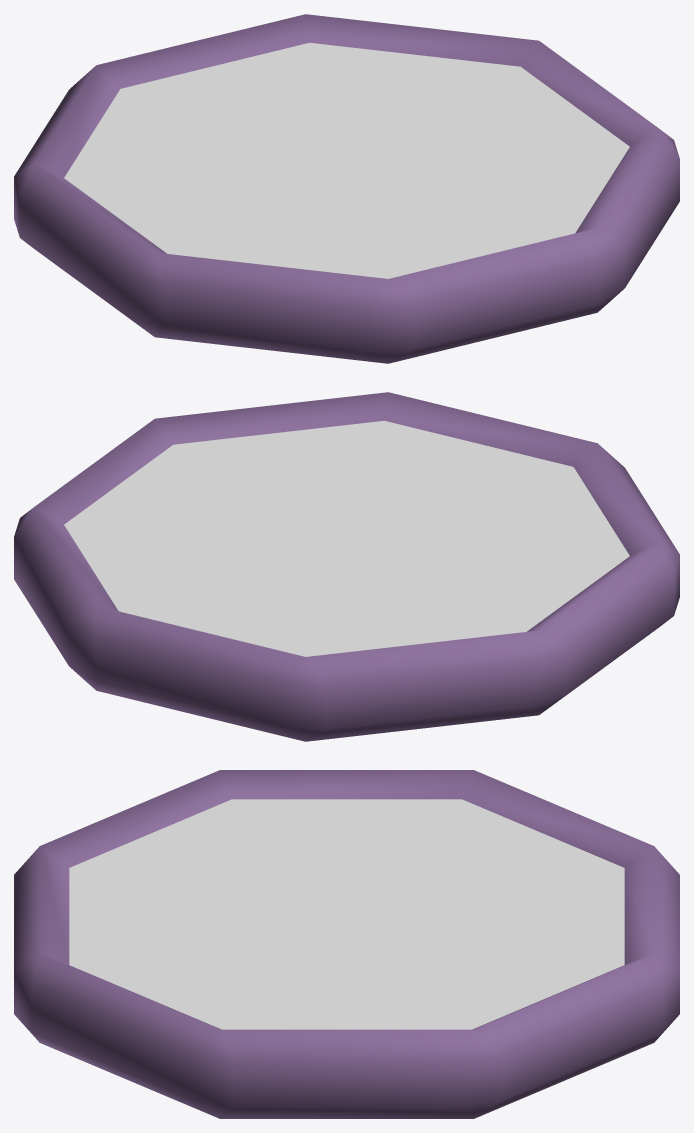
Rendered from objectTile.glb.
3 renders of one model, top to bottom at view 1: azimuth 30°, elevation 25°; view 2: azimuth 150°, elevation 25°; view 3: azimuth 270°, elevation 25°, orthographic. The views are drawn at different scales.
Parts seen in each view (by area): view 1: Tile; view 2: Tile; view 3: Tile.
Boxes of the visible parts, bbox=[...] form: Tile: bbox=[14, 14, 679, 363]; Tile: bbox=[14, 392, 679, 741]; Tile: bbox=[14, 770, 679, 1118].
Size of the model in its own units: 0.9 by 0.1333 by 0.901.
Materials: 2 (1 with a texture image).
